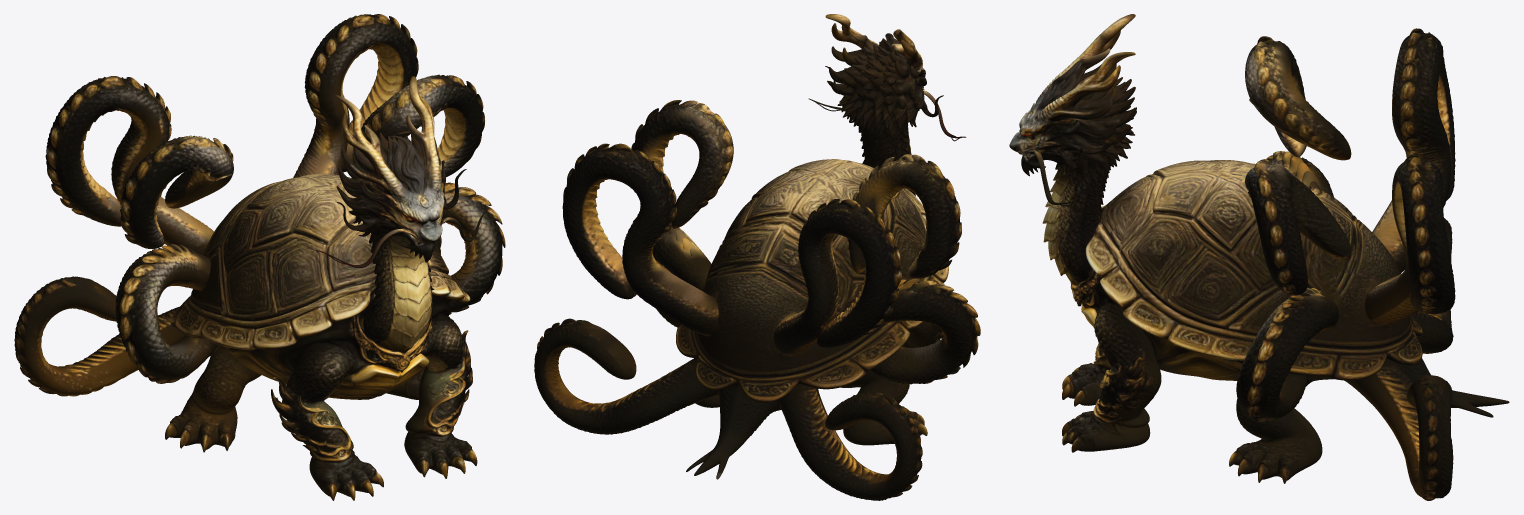
The model's file is hai-huang-shou.glb.
3 views of the same model, side by side, from view 1: azimuth 30°, elevation 25°; view 2: azimuth 150°, elevation 25°; view 3: azimuth 270°, elevation 25° (orthographic). The views are drawn at different scales.
Visible parts, largest first — view 1: node_0; view 2: node_0; view 3: node_0.
Boxes of the visible parts, x1,y1,x2,y2 form: node_0: (14, 14, 505, 500); node_0: (534, 14, 980, 500); node_0: (1009, 14, 1509, 500).
Size of the model in its own units: 0.8608 by 0.7311 by 0.8604.
Materials: 1 (1 with a texture image).
